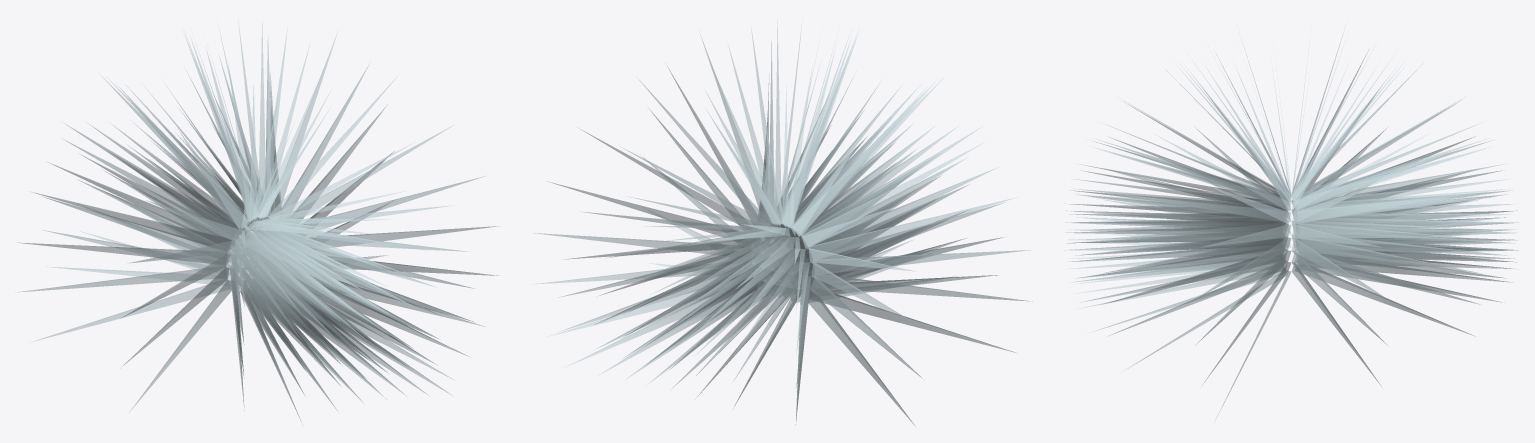
Rendered from convex-lens.glb.
3 views of the same model, side by side, from view 1: azimuth 30°, elevation 25°; view 2: azimuth 150°, elevation 25°; view 3: azimuth 270°, elevation 25° (orthographic). The views are drawn at different scales.
Parts seen in each view (by area): view 1: convex-lens.glb; view 2: convex-lens.glb; view 3: convex-lens.glb.
Part boxes in pixels (box(x1,y1,x2,y2)): convex-lens.glb: box(17, 21, 499, 424); convex-lens.glb: box(533, 20, 1032, 426); convex-lens.glb: box(1064, 35, 1518, 420).
Size of the model in its own units: 1.8 by 1.56 by 2.
